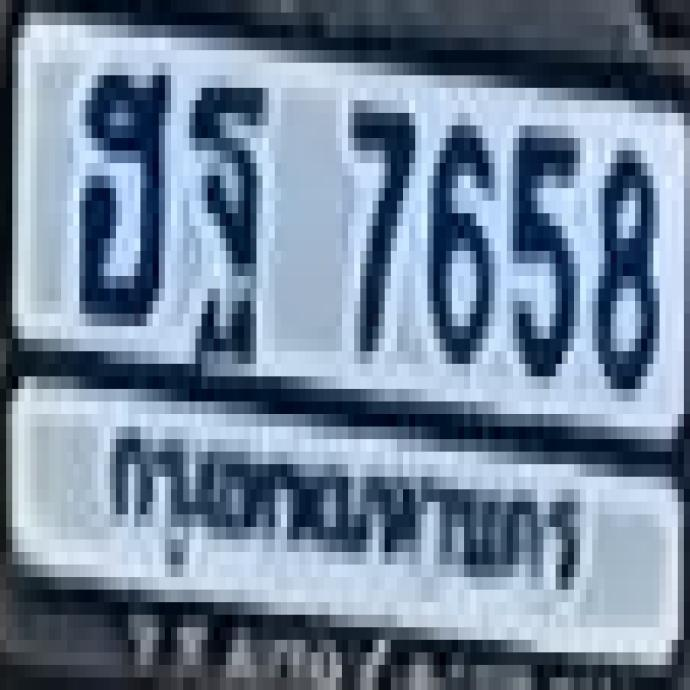5: (507, 115, 572, 367)
6: (424, 114, 487, 351)
7: (347, 92, 411, 347)
8: (590, 136, 653, 382)
A16: (185, 76, 270, 371)
A44: (76, 59, 165, 315)
BKK: (92, 404, 593, 615)
